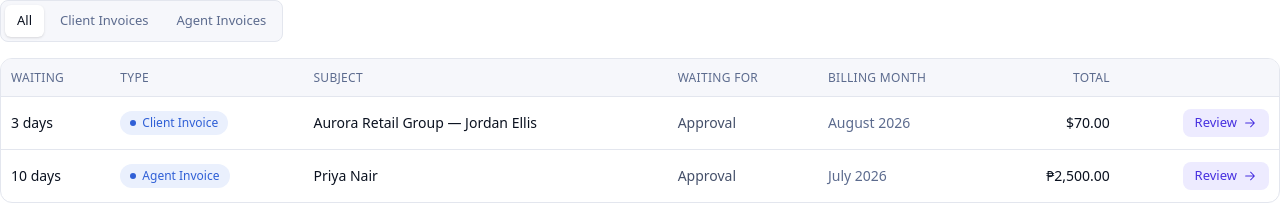
ReviewQueueView › narrows the queue to one invoice type and back to all
Click the tab "Agent Invoices": (221, 21) [164,5,278,36]
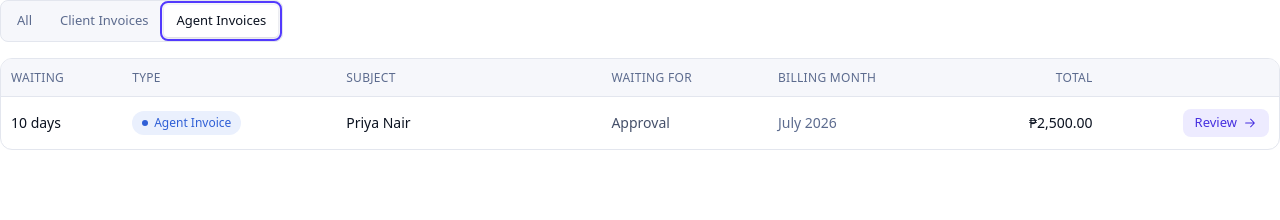
Check: the row "Priya Nair" is shown, box [1,96,1279,149]
Check: the cell "Aurora Retail Group" is gone
Click the tab "Client Invoices": (104, 21) [48,5,160,36]
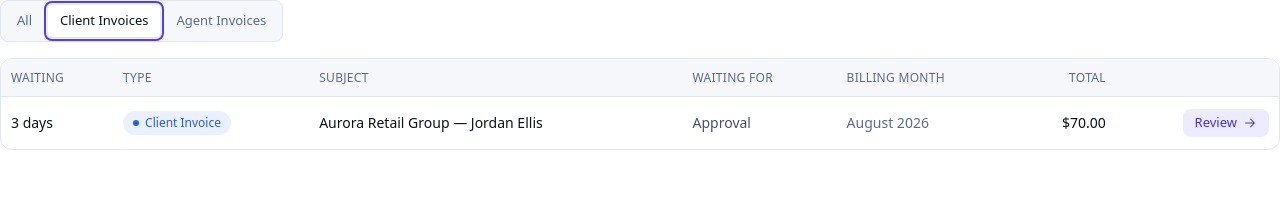
Check: the row "Aurora Retail Group" is shown, box [1,96,1279,149]
Check: the cell "Priya Nair" is gone
Click the tab "All": (24, 21) [5,5,44,36]
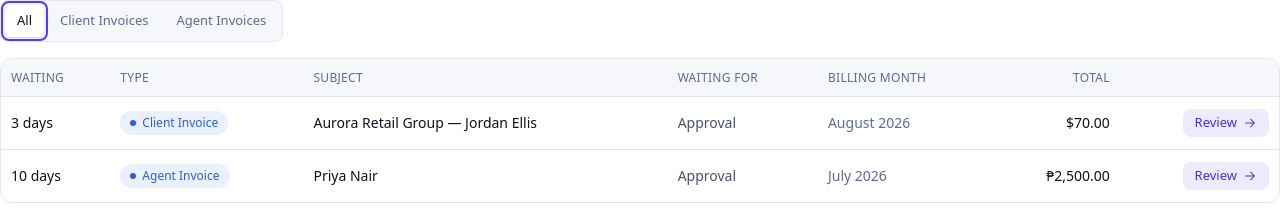
Check: the row "Aurora Retail Group" is shown, box [1,96,1279,149]
Check: the row "Priya Nair" is shown, box [1,149,1279,202]
